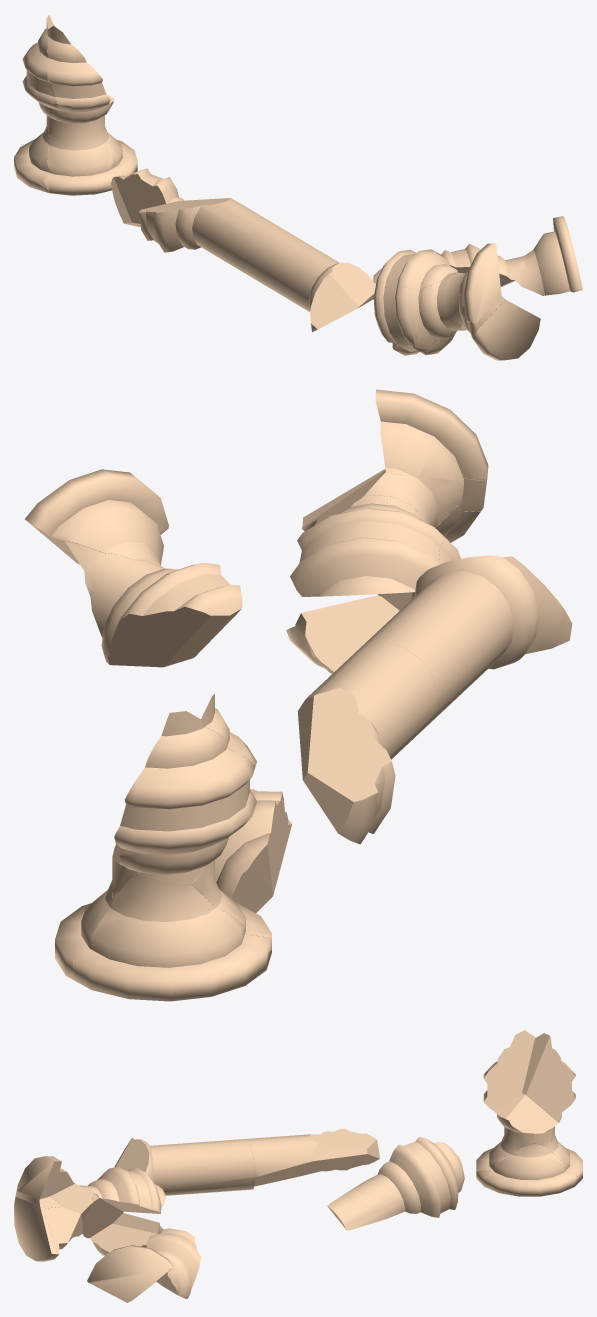
The model's file is Pillar_Broken_A.fbx.
3 views of the same model, one above another, from view 1: azimuth 30°, elevation 25°; view 2: azimuth 150°, elevation 25°; view 3: azimuth 270°, elevation 25° (orthographic). The views are drawn at different scales.
Visible parts, largest first — view 1: Pillar_Broken_A; view 2: Pillar_Broken_A; view 3: Pillar_Broken_A.
Part boxes in pixels (bbox=[...]): Pillar_Broken_A: bbox=[14, 14, 582, 360]; Pillar_Broken_A: bbox=[25, 389, 572, 1001]; Pillar_Broken_A: bbox=[14, 1030, 582, 1302].
Bounding box in the file's own units: 825 × 452 × 1379.
